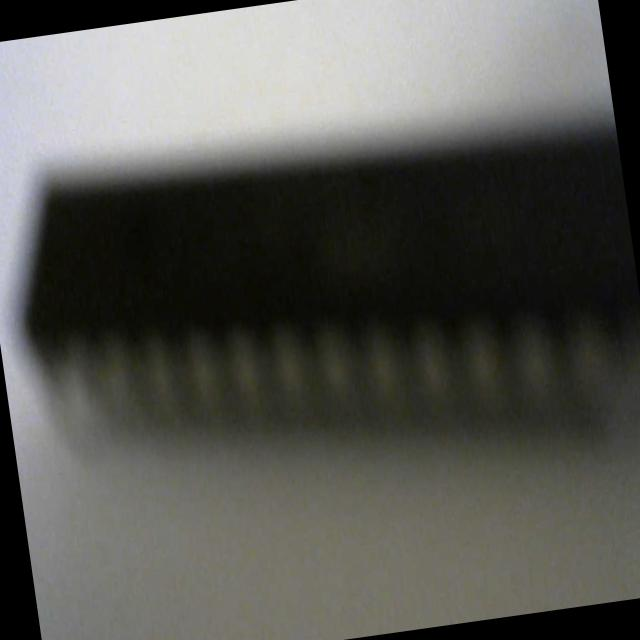atmega: (0, 52, 640, 555)
